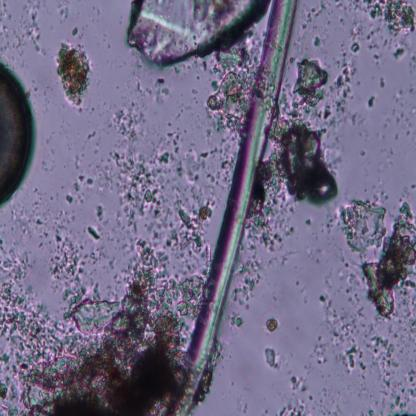Background material: (0, 239, 184, 414), (116, 1, 272, 65), (103, 108, 164, 226), (272, 116, 339, 206), (364, 202, 416, 317), (156, 137, 233, 189), (30, 218, 82, 291), (198, 57, 250, 127), (245, 210, 292, 272), (358, 324, 403, 385), (226, 261, 261, 339), (56, 38, 94, 109), (341, 197, 387, 254), (291, 52, 330, 112), (249, 152, 280, 222), (176, 196, 214, 252), (310, 292, 354, 340), (329, 53, 360, 119), (365, 1, 416, 38), (10, 4, 45, 56), (278, 367, 316, 414), (385, 82, 416, 139), (62, 173, 101, 208), (389, 370, 416, 416), (143, 72, 179, 106), (300, 335, 334, 370), (320, 206, 351, 232), (30, 192, 54, 223), (362, 86, 380, 114), (388, 41, 408, 65), (263, 345, 280, 373), (343, 345, 359, 370), (84, 223, 104, 242), (370, 36, 380, 70), (264, 316, 282, 333), (376, 70, 386, 92), (348, 43, 366, 55), (95, 200, 104, 223), (303, 214, 315, 231), (312, 34, 324, 51), (86, 128, 99, 143), (69, 22, 78, 40), (358, 149, 367, 157), (410, 182, 416, 191)
Diatom: (0, 59, 37, 208)
Microfibre: (164, 0, 298, 414)
